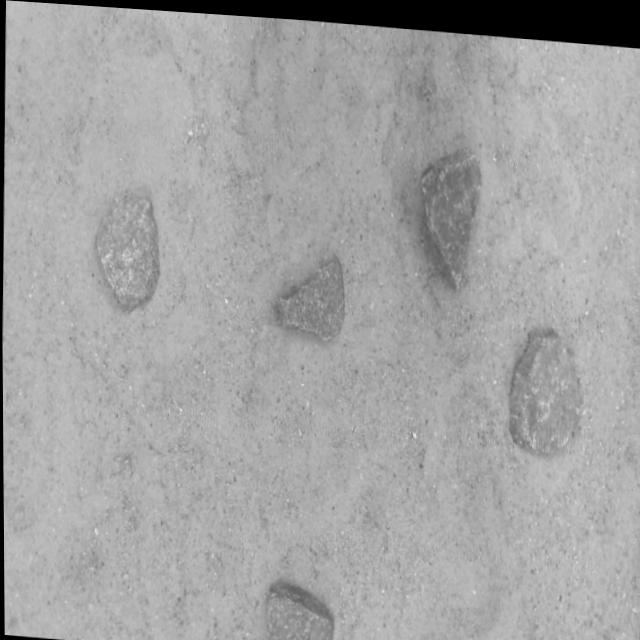rock: (508, 327, 584, 445), (421, 143, 481, 283), (95, 197, 159, 309), (272, 254, 343, 335), (264, 582, 332, 640)
